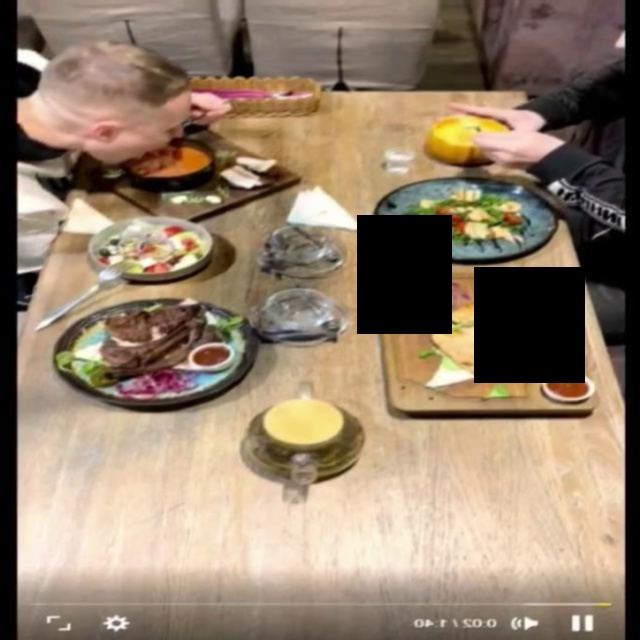meat: (373, 276, 594, 408), (50, 295, 261, 405)
salad: (375, 175, 562, 260), (87, 212, 212, 280)
soup: (72, 126, 302, 220), (423, 113, 510, 163)
tea: (242, 395, 367, 480)
